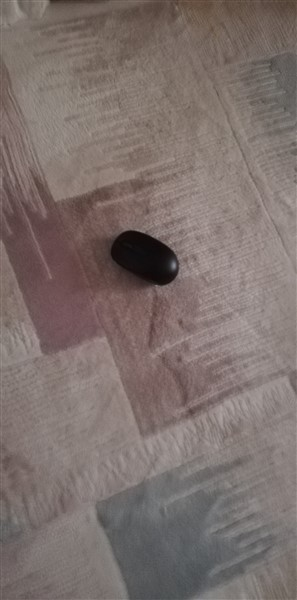mouse: (106, 226, 189, 289)
